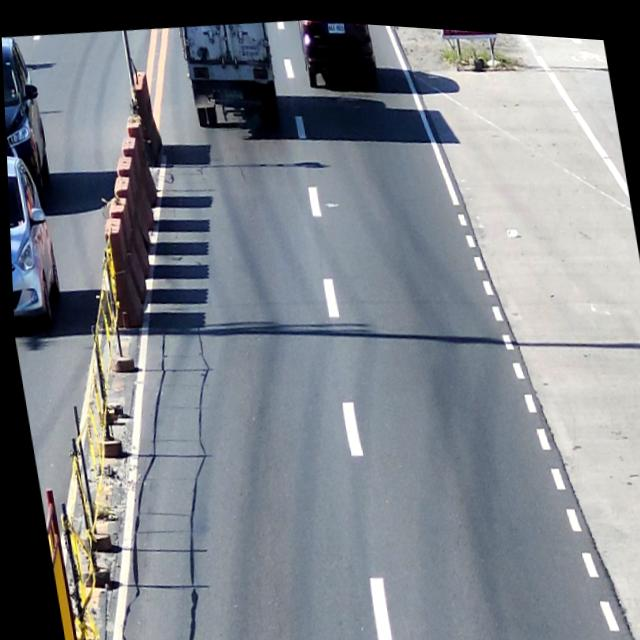Car: (5, 152, 63, 339), (1, 34, 53, 211), (299, 16, 378, 87)
License-Plate: (217, 80, 243, 97), (325, 17, 346, 29)
Truck: (183, 14, 282, 140)
